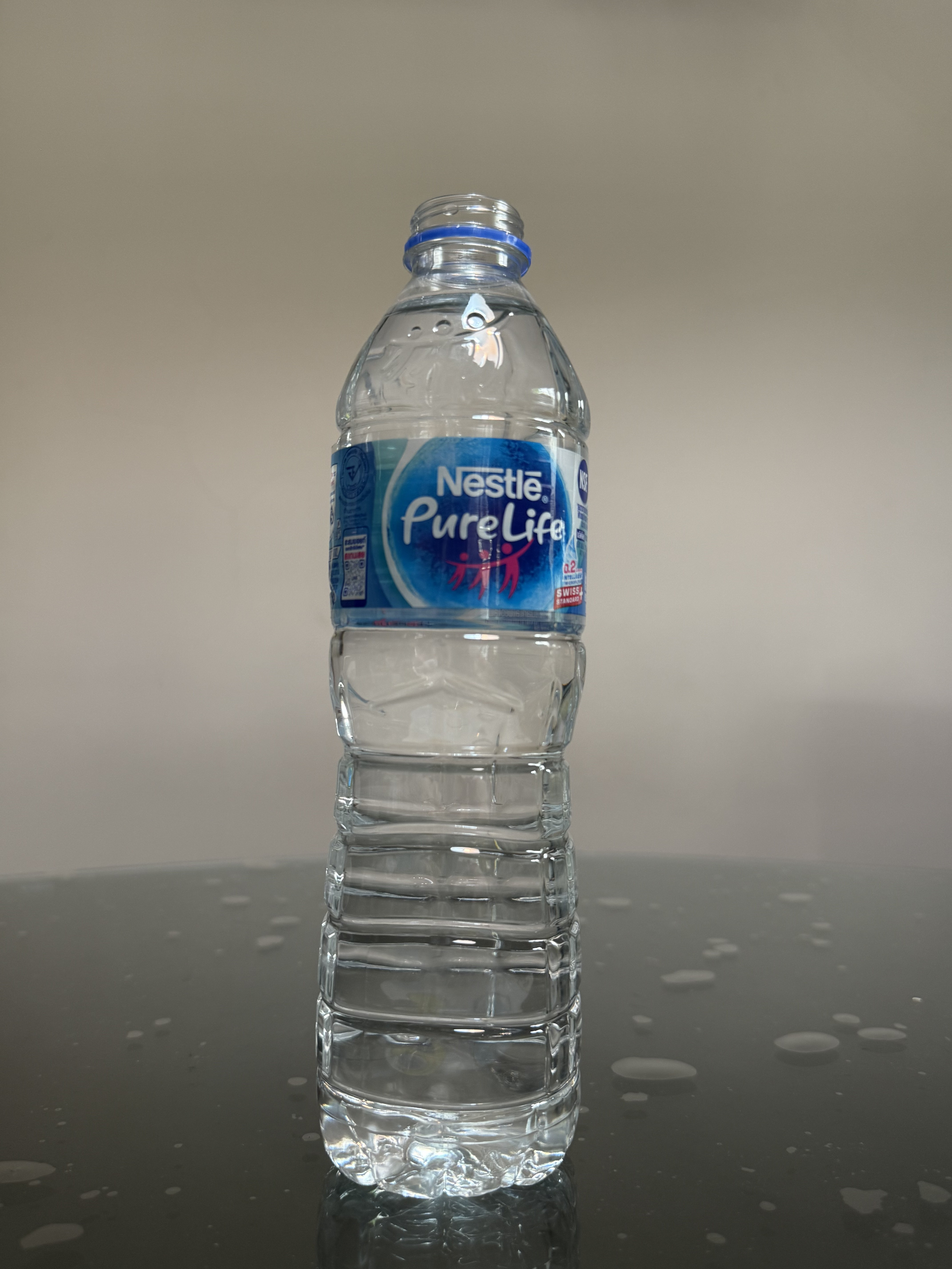no_cap: (402, 190, 531, 271)
